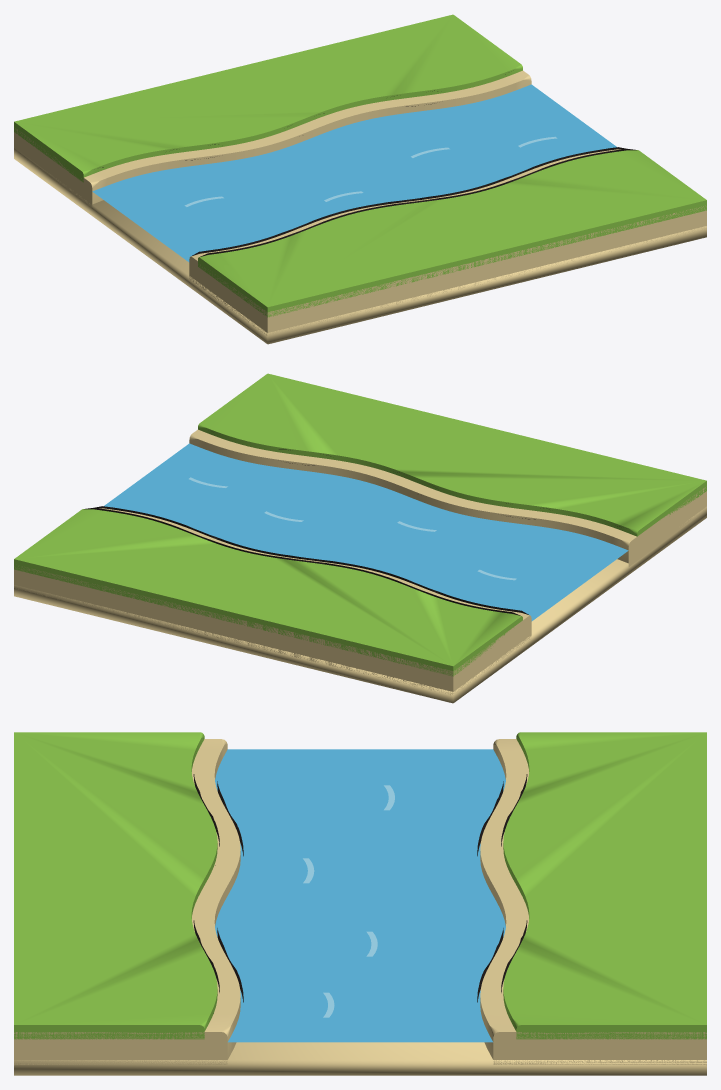
Rendered from River_Straight.fbx.
3 renders of one model, top to bottom at view 1: azimuth 30°, elevation 25°; view 2: azimuth 150°, elevation 25°; view 3: azimuth 270°, elevation 25°, orthographic. The views are drawn at different scales.
Parts seen in each view (by area): view 1: Tile_River_Straight_Grass, Tile_River_Straight_Water, Tile_River_Straight_Sand, Tile_River_Straight_Outline; view 2: Tile_River_Straight_Grass, Tile_River_Straight_Water, Tile_River_Straight_Sand, Tile_River_Straight_Outline; view 3: Tile_River_Straight_Grass, Tile_River_Straight_Water, Tile_River_Straight_Sand, Tile_River_Straight_Outline, Tile_River_Straight_WaterEdge.
Part boxes in pixels (box(x1,y1,x2,y2)): Tile_River_Straight_Grass: box(14, 14, 706, 317); Tile_River_Straight_Water: box(92, 84, 616, 262); Tile_River_Straight_Sand: box(14, 70, 706, 344); Tile_River_Straight_Outline: box(102, 74, 636, 256); Tile_River_Straight_Grass: box(14, 373, 706, 676); Tile_River_Straight_Water: box(104, 443, 628, 621); Tile_River_Straight_Sand: box(14, 429, 706, 703); Tile_River_Straight_Outline: box(84, 449, 619, 615); Tile_River_Straight_Grass: box(14, 732, 706, 1039); Tile_River_Straight_Water: box(215, 749, 505, 1042); Tile_River_Straight_Sand: box(14, 739, 706, 1075); Tile_River_Straight_Outline: box(193, 774, 527, 1013); Tile_River_Straight_WaterEdge: box(303, 785, 394, 1017).
Bounding box in the file's own units: 24 × 2.02 × 24.
